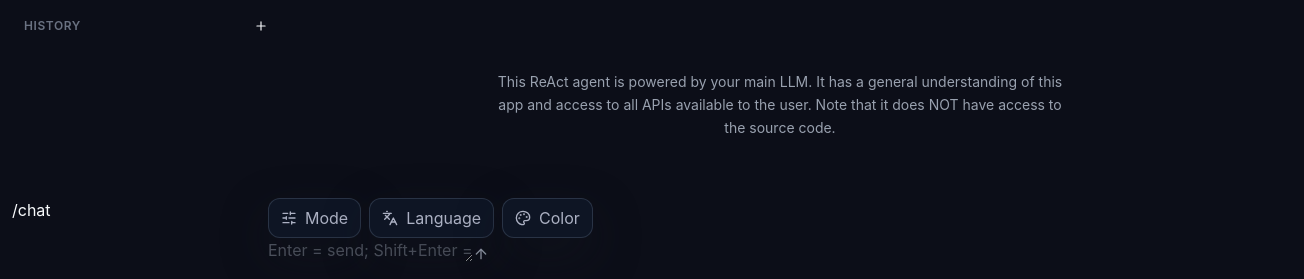
Test: ChatPage — stop › reports a stop that failed and offers the button again
The width and height of the screenshot is (1304, 279).
Type "hi there" into the text box with test id "chat-input" at (370, 250), box [268,238,473,262]
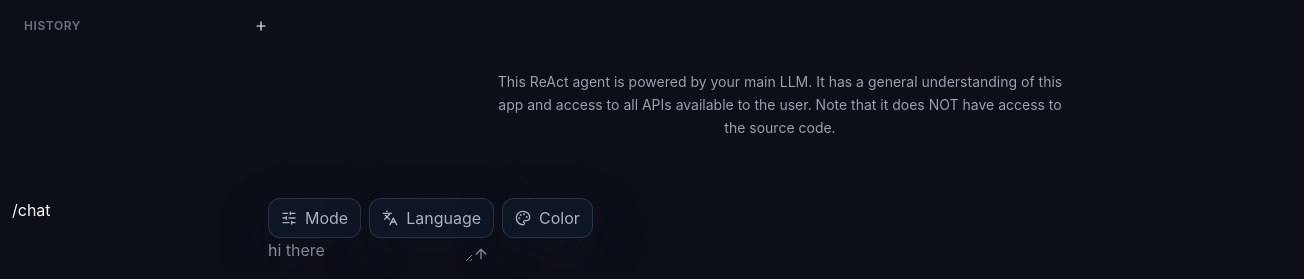
Click the button with test id "chat-send" at (481, 254), box [473,246,489,262]
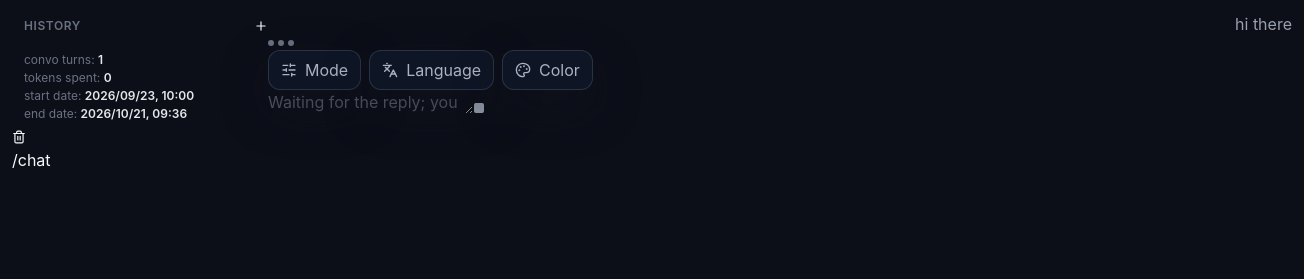
Result: the button with test id "chat-stop" is enabled
Click the button with test id "chat-stop" at (479, 108), box [473,102,485,114]
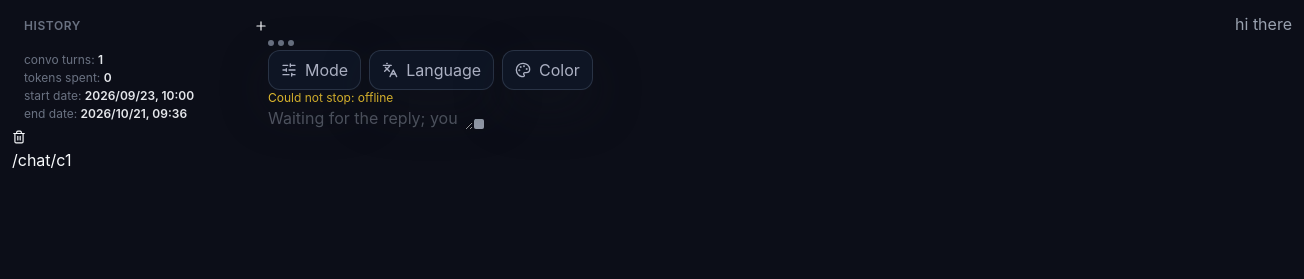
Result: the button with test id "chat-stop" is enabled at [473,118,485,130]
Result: the text with test id "chat-error" reads "Could not stop: offline" at [268,90,393,105]
